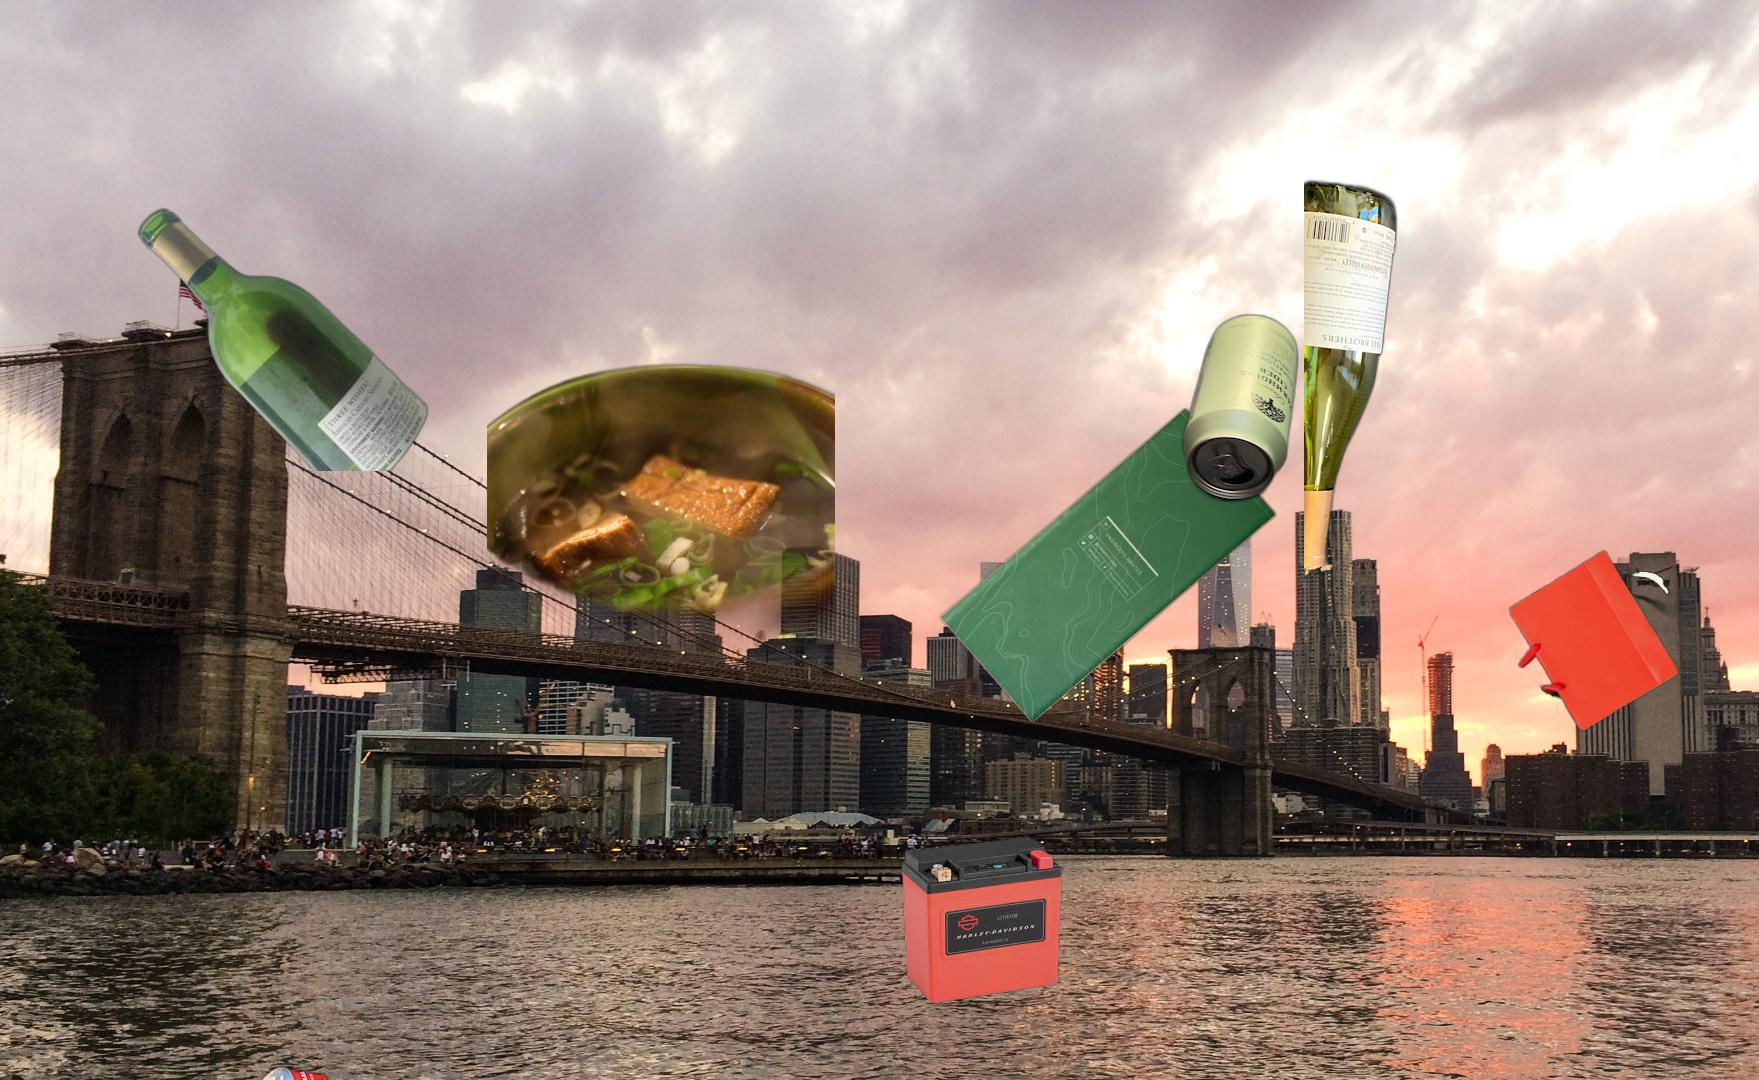battery: (900, 834, 1065, 1006)
biological: (487, 360, 836, 740)
glass: (133, 207, 477, 471), (1304, 175, 1402, 727)
metal-cans: (923, 215, 1302, 506), (251, 1060, 353, 1080)
paper: (936, 404, 1280, 726)
paper-bag: (1506, 548, 1689, 733)
